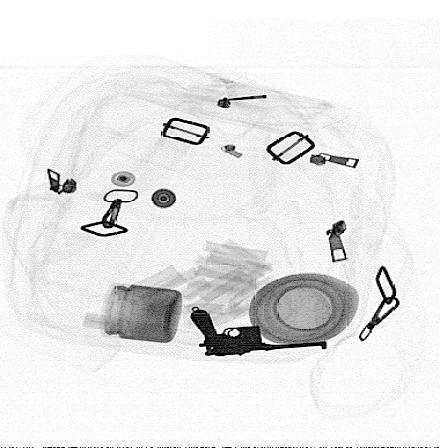Gun: (192, 311, 328, 357)
